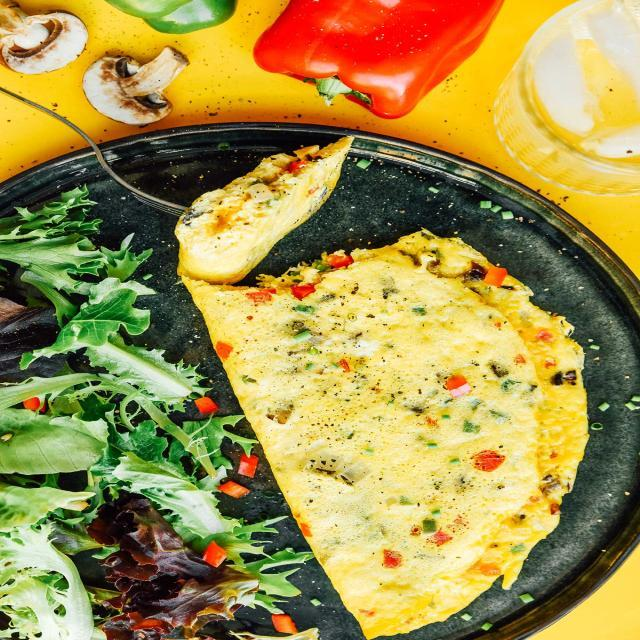telur_ayam_dadar: (174, 136, 590, 640)
